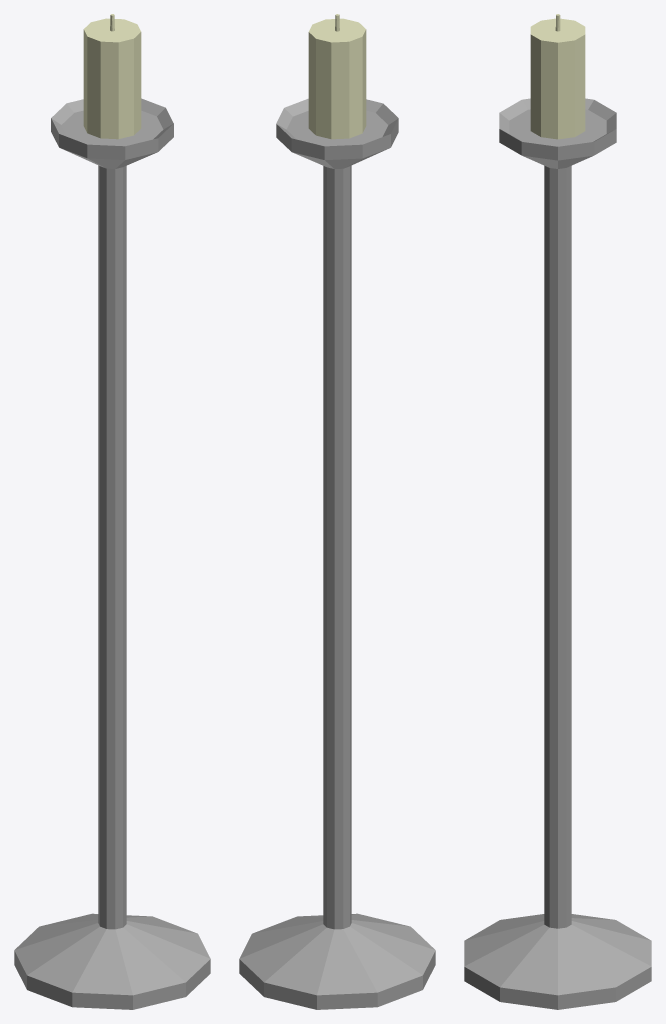
Rendered from Mesh_Candle_Stand.fbx.
3 renders of one model, left to right at view 1: azimuth 30°, elevation 25°; view 2: azimuth 150°, elevation 25°; view 3: azimuth 270°, elevation 25°, orthographic.
Parts seen in each view (by area): view 1: Candle_Stand, Candle; view 2: Candle_Stand, Candle; view 3: Candle_Stand, Candle.
Boxes of the visible parts, x1=… form: Candle_Stand: x1=14, y1=98, x2=210, y2=1009; Candle: x1=83, y1=14, x2=141, y2=139; Candle_Stand: x1=239, y1=98, x2=435, y2=1009; Candle: x1=308, y1=14, x2=366, y2=139; Candle_Stand: x1=464, y1=98, x2=651, y2=1009; Candle: x1=530, y1=14, x2=585, y2=139.
Bounding box in the file's own units: 20.45 × 109 × 19.45.
